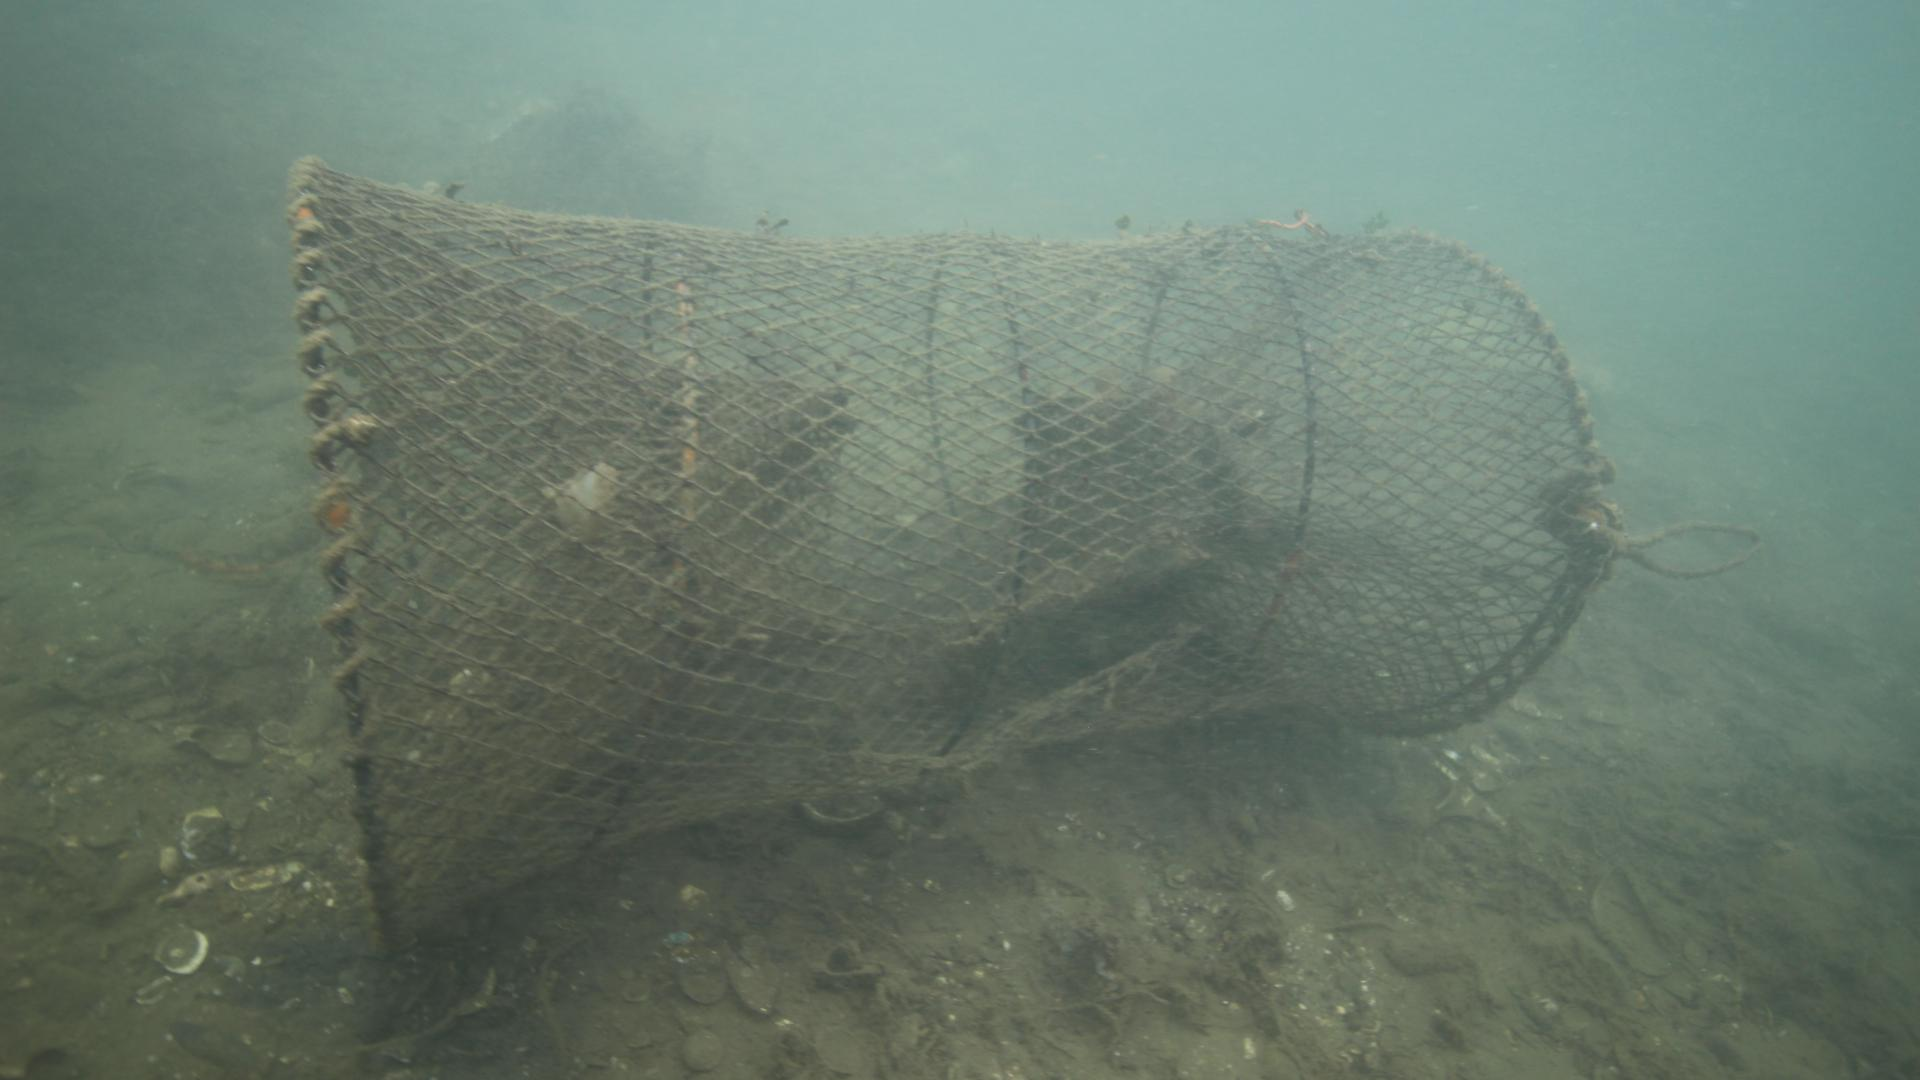bundle of ropes: (1617, 513, 1774, 585)
spring fish trap: (274, 142, 1617, 942)
